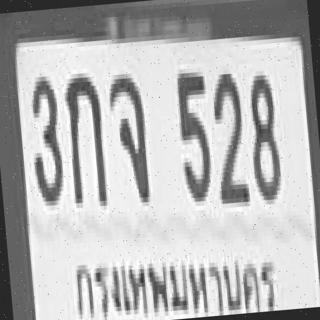A01: (62, 68, 106, 203)
A08: (106, 68, 150, 200)
N02: (207, 66, 248, 202)
N03: (25, 71, 63, 202)
N05: (173, 67, 213, 198)
N08: (244, 70, 280, 196)
P04: (66, 229, 278, 320)
